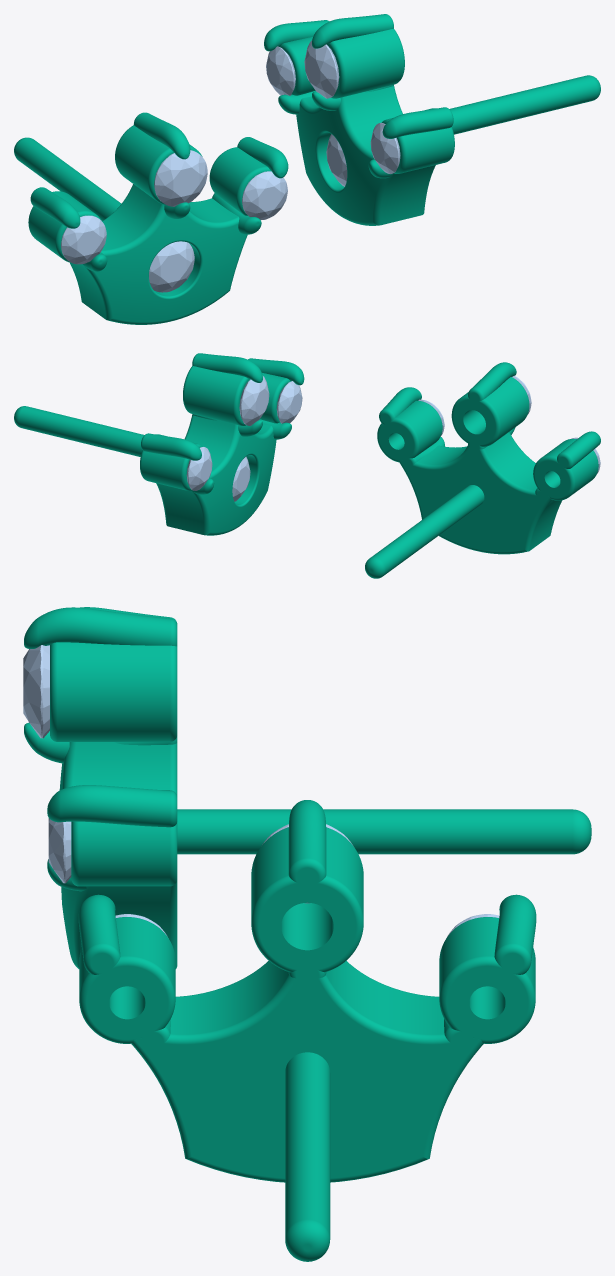
The picture shows the model from 3 angles, top to bottom: view 1: azimuth 30°, elevation 25°; view 2: azimuth 150°, elevation 25°; view 3: azimuth 270°, elevation 25°; orthographic projection. The views are drawn at different scales.
Visible parts, largest first — view 1: VEAR162.3dm, Bezel (×6), Diamond_Round (×8), Head Prong (×9); view 2: VEAR162.3dm, Bezel (×6), Head Prong (×8), Diamond_Round (×4); view 3: VEAR162.3dm, Bezel (×5), Head Prong (×6), Diamond_Round (×2).
Boxes of the visible parts, x1,y1,x2,y2 form: VEAR162.3dm: [14, 75, 600, 324]; Bezel (×6): [28, 28, 454, 262]; Diamond_Round (×8): [61, 40, 400, 292]; Head Prong (×9): [30, 14, 453, 234]; VEAR162.3dm: [14, 406, 561, 578]; Bezel (×6): [140, 366, 598, 500]; Head Prong (×8): [141, 353, 600, 468]; Diamond_Round (×4): [186, 376, 302, 501]; VEAR162.3dm: [59, 742, 591, 1261]; Bezel (×5): [50, 642, 535, 1043]; Head Prong (×6): [24, 607, 536, 974]; Diamond_Round (×2): [23, 645, 71, 883].
Size of the model in its own units: 3.49 by 1.07 by 1.64.
